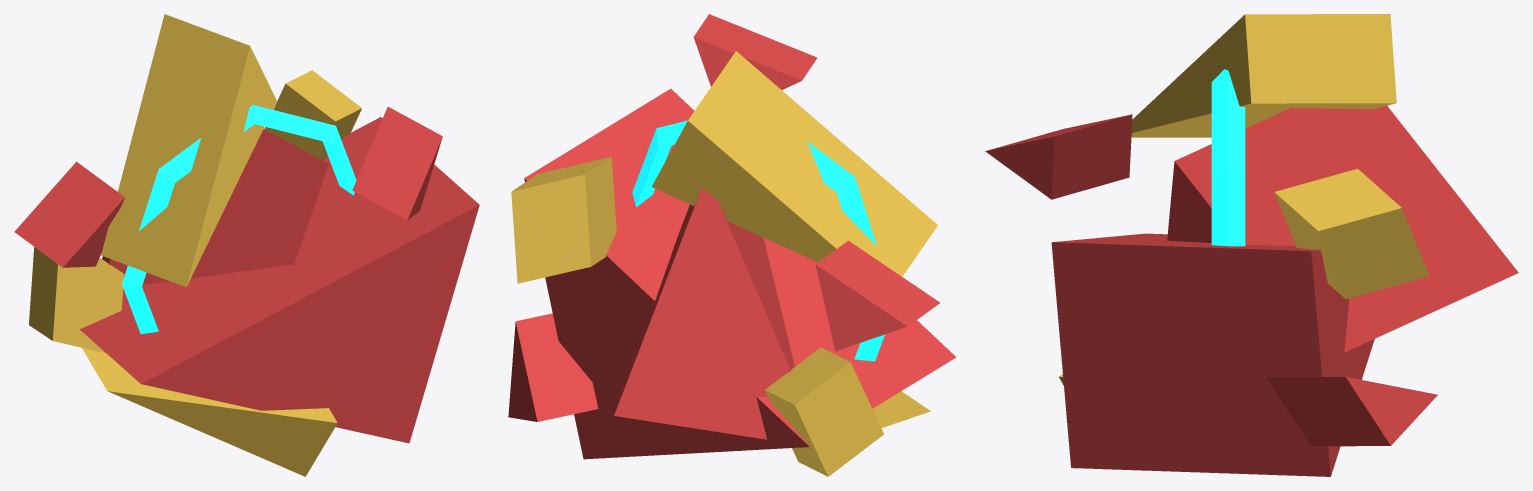
Rendered from damage_effect__critical.glb.
The picture shows the model from 3 angles, left to right: view 1: azimuth 30°, elevation 25°; view 2: azimuth 150°, elevation 25°; view 3: azimuth 270°, elevation 25°; orthographic projection. The views are drawn at different scales.
Visible parts, largest first — view 1: ROLE_critical, ROLE_warning, ROLE_interaction; view 2: ROLE_critical, ROLE_warning, ROLE_interaction; view 3: ROLE_critical, ROLE_warning, ROLE_interaction.
Part boxes in pixels (x1,y1,x2,y2): ROLE_critical: (14, 107, 479, 443); ROLE_warning: (29, 14, 361, 476); ROLE_interaction: (122, 104, 356, 334); ROLE_critical: (508, 14, 956, 459); ROLE_warning: (511, 51, 937, 476); ROLE_interaction: (632, 120, 884, 361); ROLE_critical: (985, 105, 1518, 476); ROLE_warning: (1059, 14, 1429, 385); ROLE_interaction: (1211, 69, 1245, 246).
Size of the model in its own units: 3.47 by 3.53 by 4.
